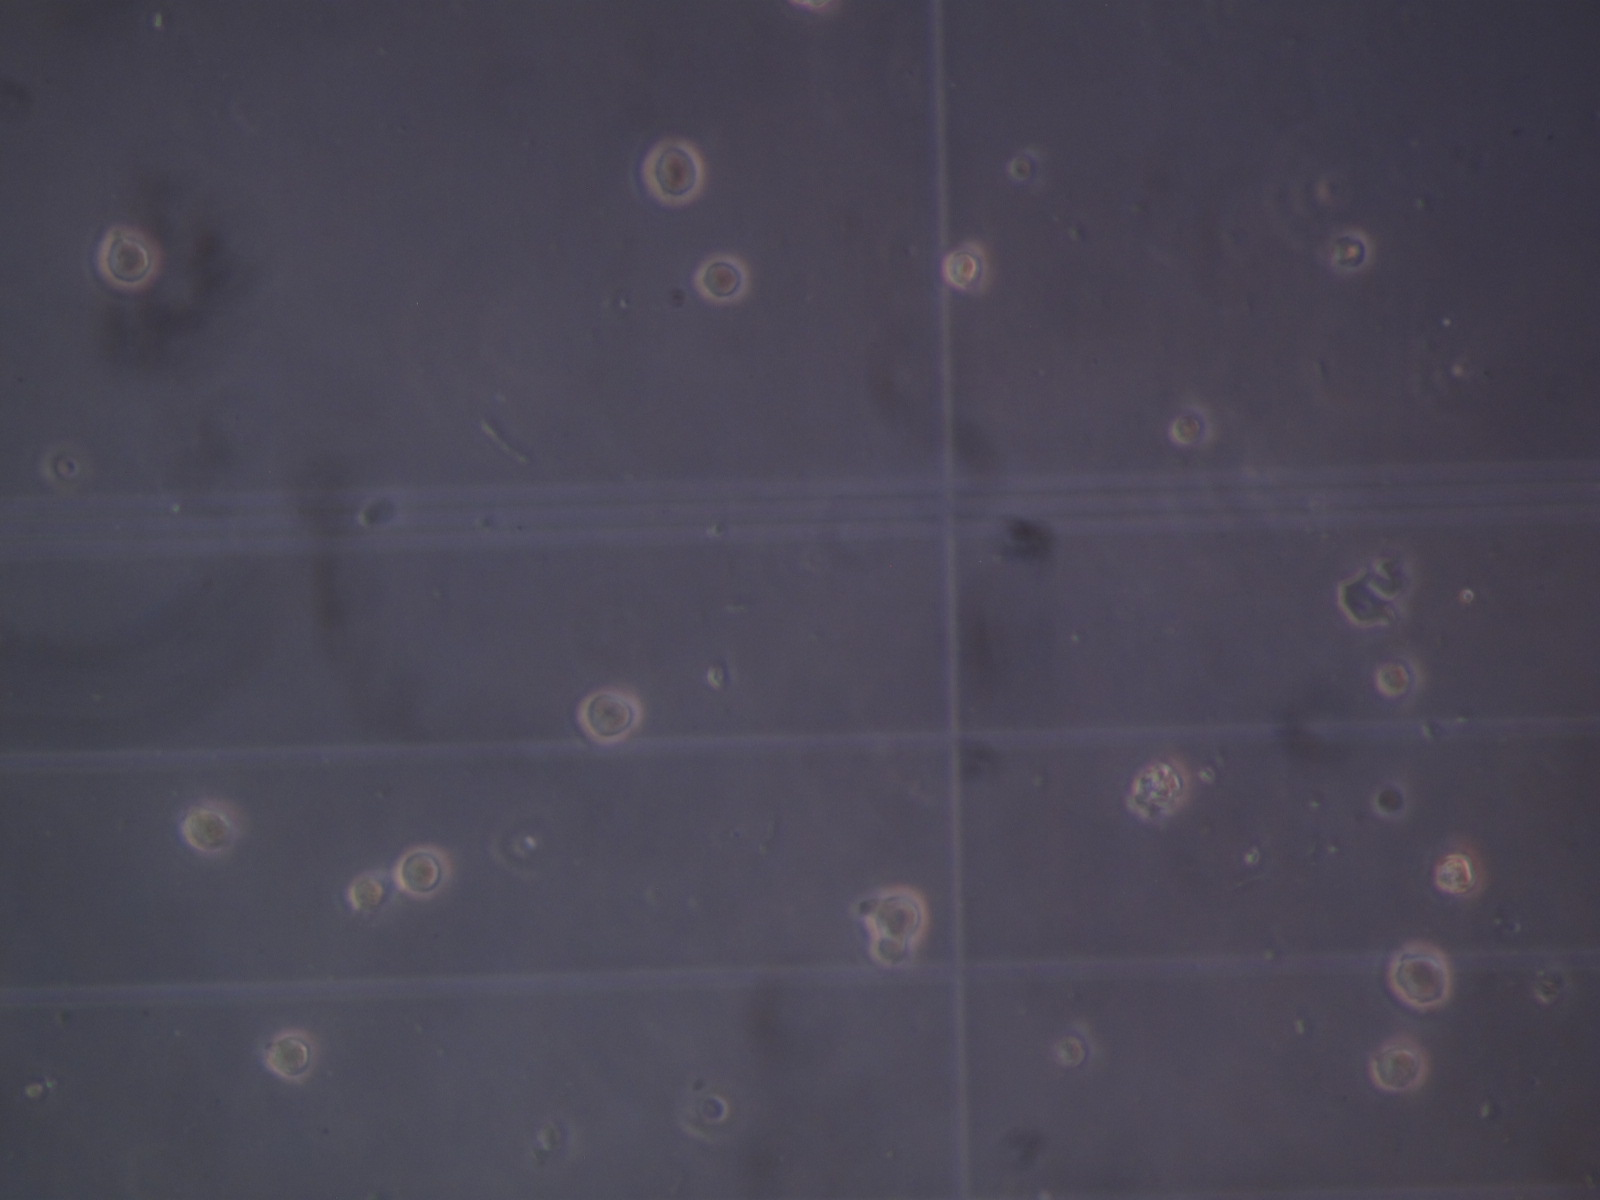hemo: (1388, 942, 1453, 1008), (98, 224, 163, 291), (576, 688, 643, 747), (640, 142, 703, 203), (1129, 755, 1191, 816), (866, 882, 929, 942), (1369, 1034, 1429, 1092), (392, 845, 450, 897), (693, 253, 751, 305), (1047, 1017, 1095, 1074), (941, 241, 988, 297), (1374, 650, 1421, 705), (267, 1031, 316, 1082), (181, 807, 233, 855), (682, 1087, 728, 1138), (1432, 850, 1477, 895), (1374, 779, 1416, 822), (1332, 229, 1372, 274), (866, 934, 913, 971), (348, 872, 387, 916), (1173, 408, 1213, 444)
